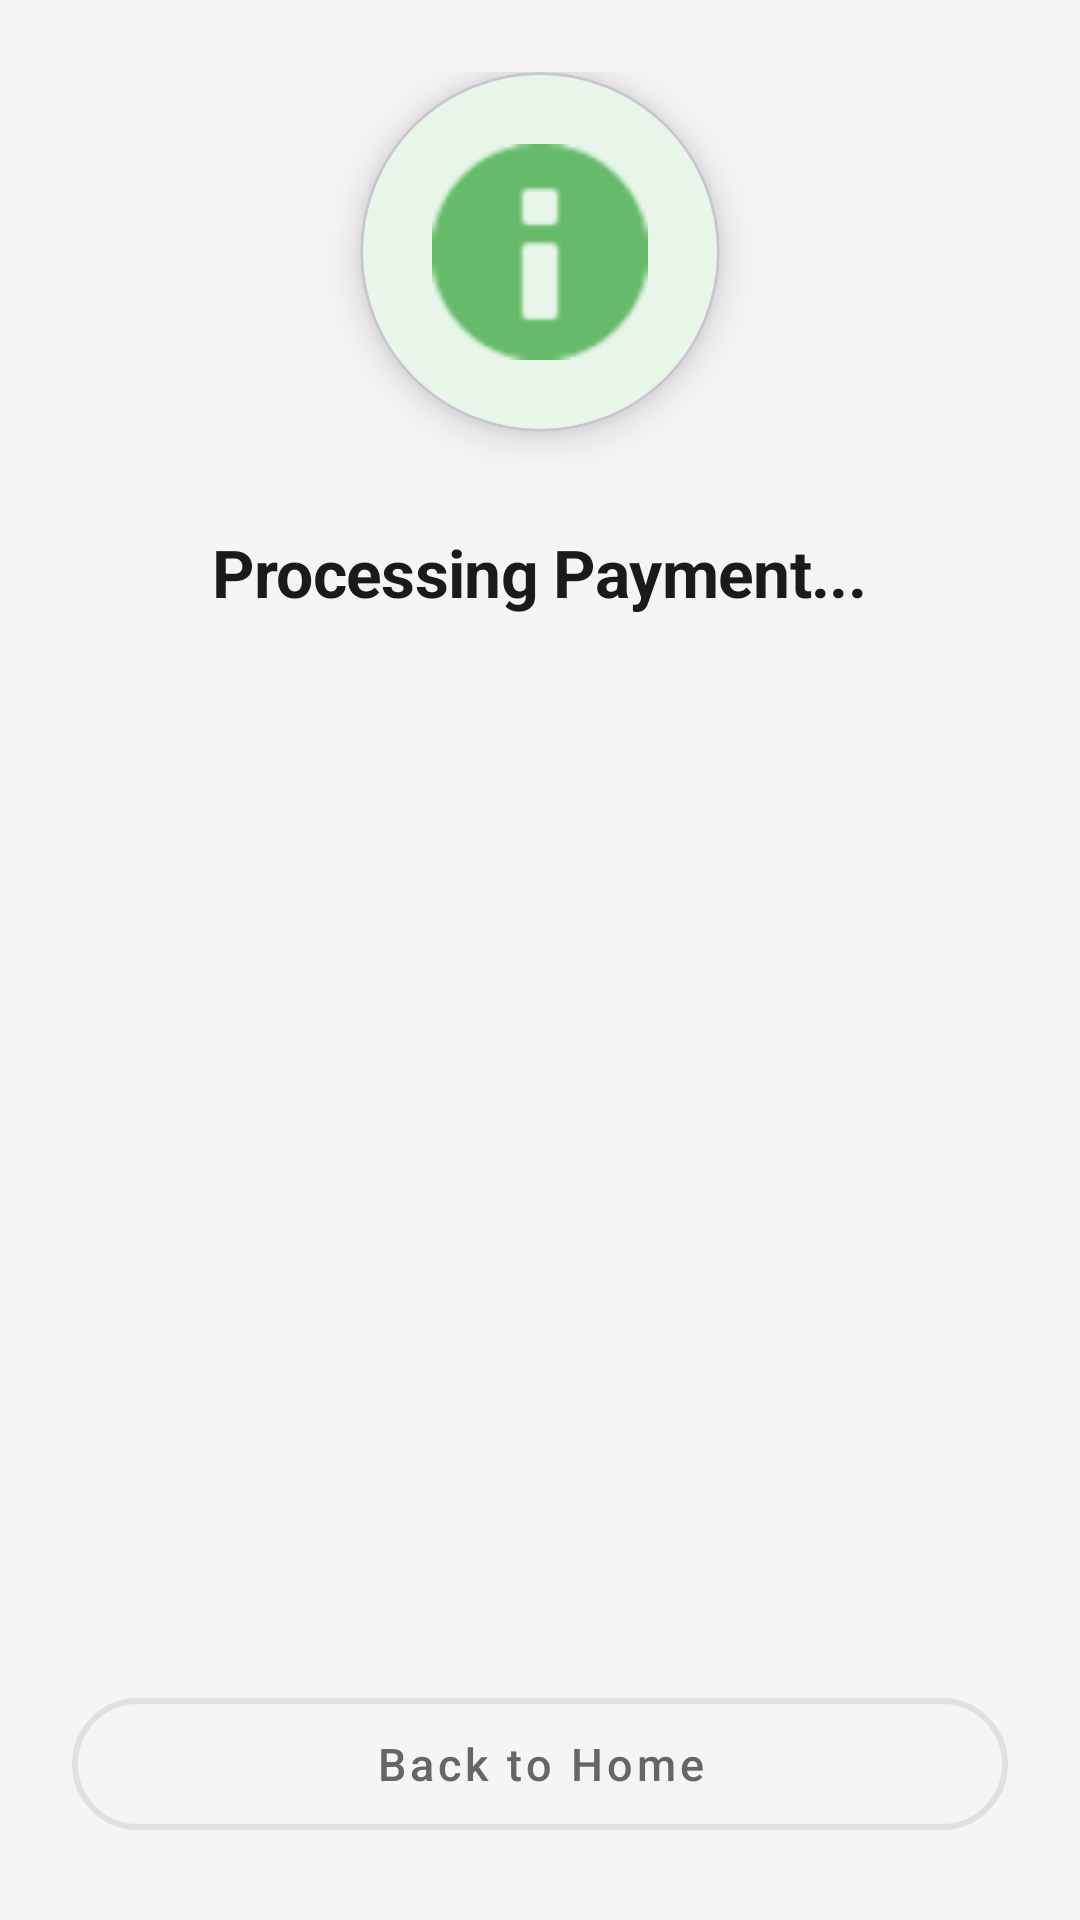

Icon bounding boxes for this 1080x1920 phone screenshot, format region(x1, y1, x2, y2):
info: region(432, 144, 648, 360)
